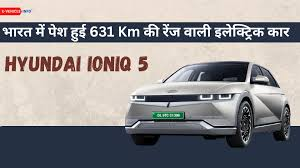Honda Ioniq: (124, 59, 292, 151)
